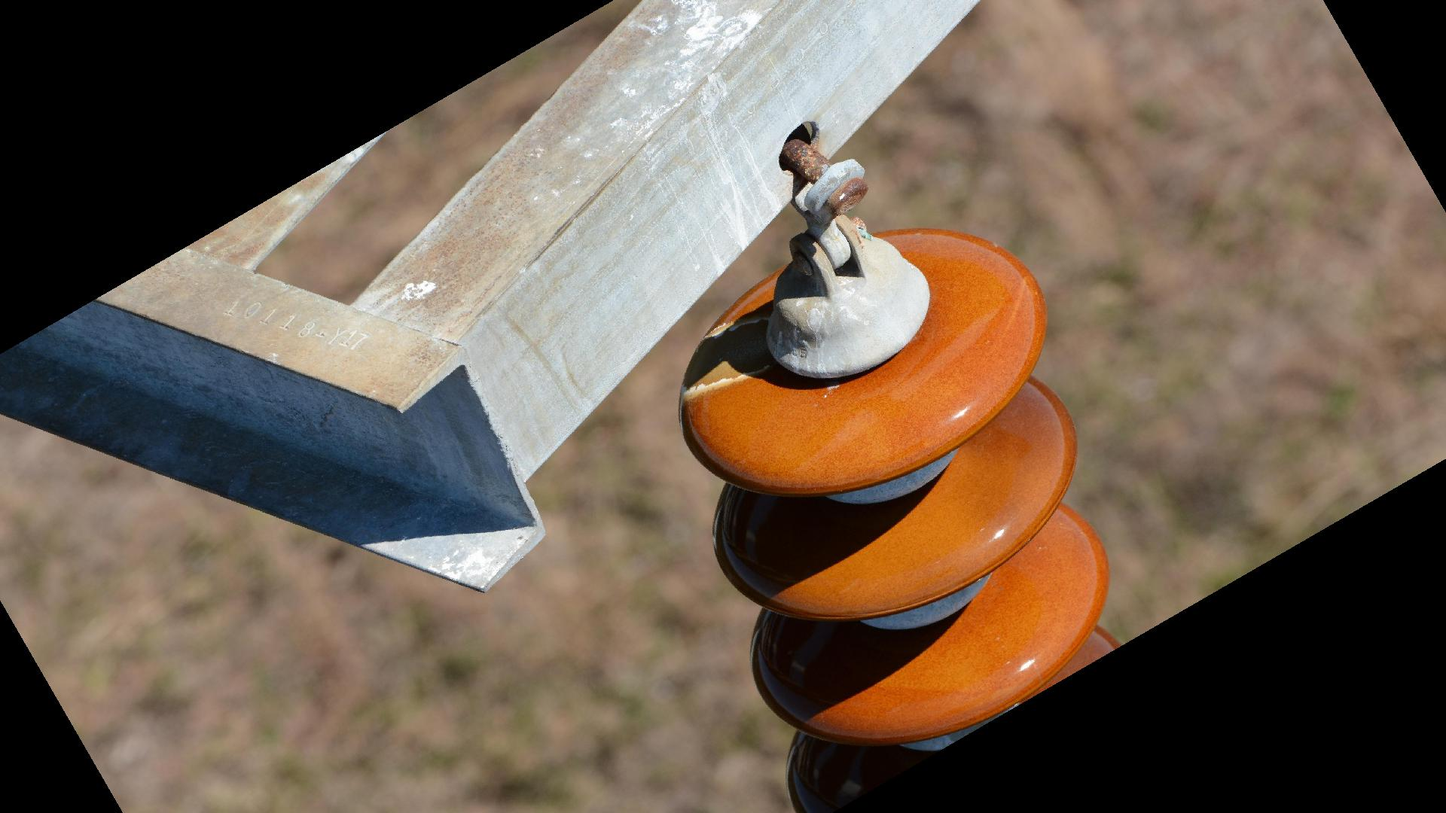insulator: (672, 221, 1127, 813)
insulator_flashover: (670, 312, 776, 404)
